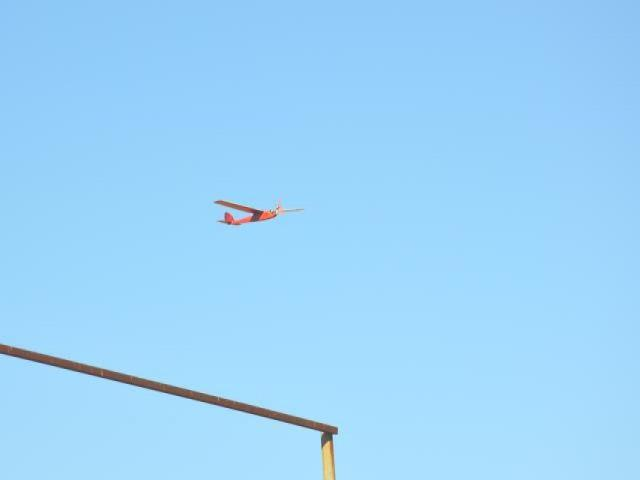iha: (218, 200, 303, 224)
